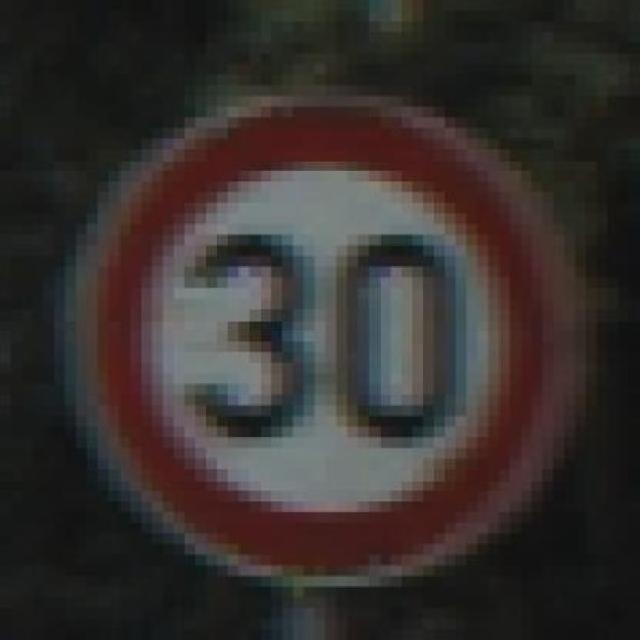Speed Limit 30 KMPh: (54, 42, 618, 608)
